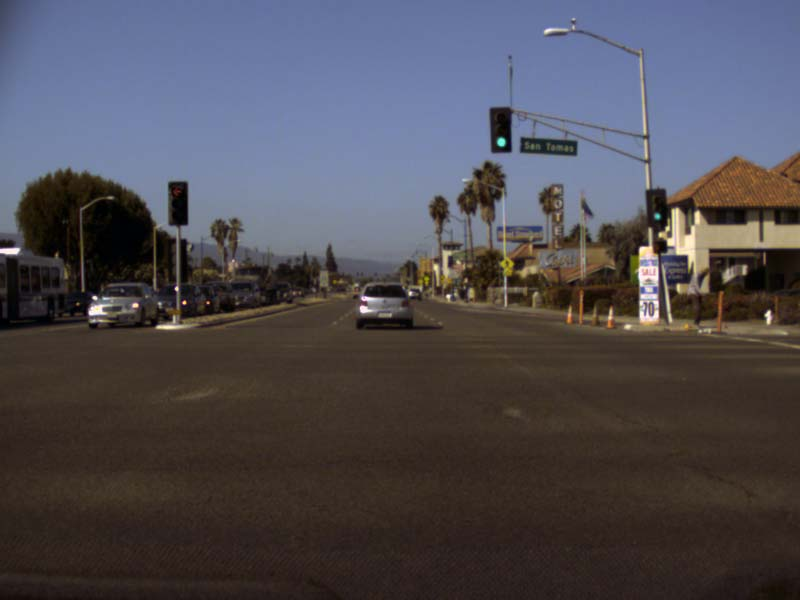Green: (492, 108, 509, 150), (648, 190, 664, 224)
Red: (169, 183, 186, 223)
